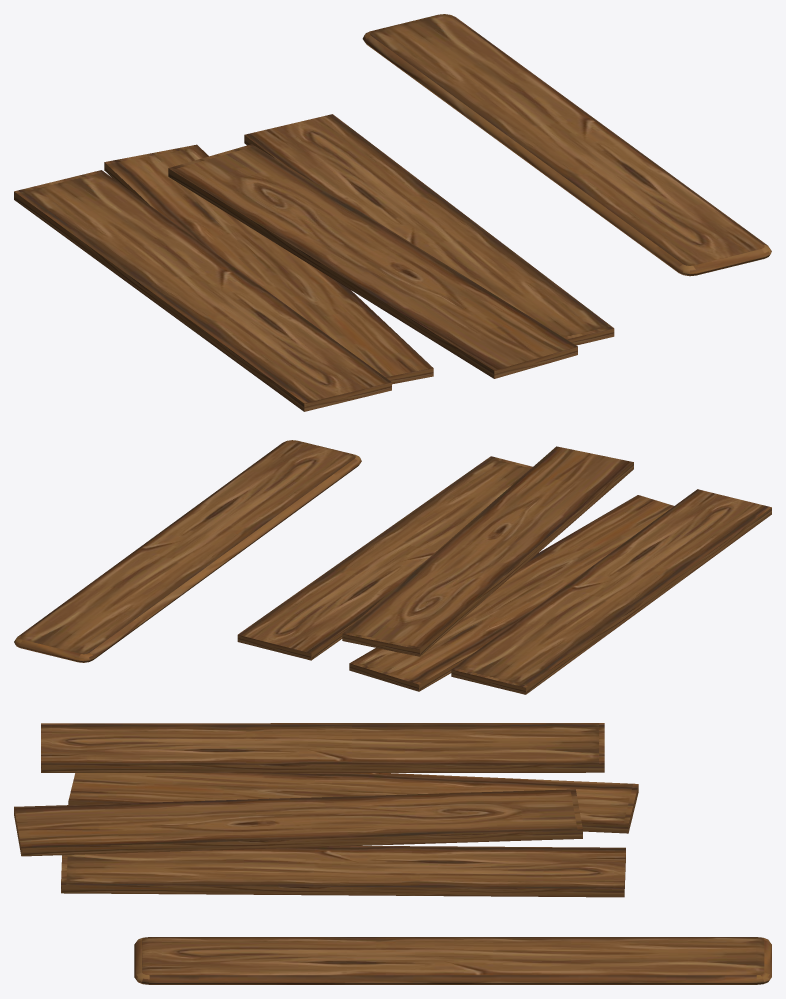
File: wood.FBX
The picture shows the model from 3 angles, top to bottom: view 1: azimuth 30°, elevation 25°; view 2: azimuth 150°, elevation 25°; view 3: azimuth 270°, elevation 25°; orthographic projection. The views are drawn at different scales.
Visible parts, largest first — view 1: ChamferBox002, Box003, Box001, Box004, Box002; view 2: ChamferBox002, Box001, Box003, Box004, Box002; view 3: ChamferBox002, Box003, Box001, Box004, Box002.
Boxes of the visible parts, left/top/right/bottom form: ChamferBox002: left=362, top=14, right=771, bottom=276; Box003: left=168, top=144, right=577, bottom=378; Box001: left=14, top=170, right=391, bottom=411; Box004: left=244, top=114, right=614, bottom=345; Box002: left=104, top=144, right=433, bottom=384; ChamferBox002: left=14, top=440, right=361, bottom=662; Box001: left=451, top=489, right=771, bottom=694; Box003: left=342, top=446, right=633, bottom=656; Box004: left=237, top=456, right=532, bottom=660; Box002: left=349, top=495, right=673, bottom=691; ChamferBox002: left=134, top=937, right=771, bottom=984; Box003: left=14, top=789, right=582, bottom=856; Box001: left=41, top=723, right=604, bottom=772; Box004: left=61, top=845, right=625, bottom=897; Box002: left=68, top=773, right=638, bottom=833.
Size of the model in its own units: 135 by 4.66 by 175.
